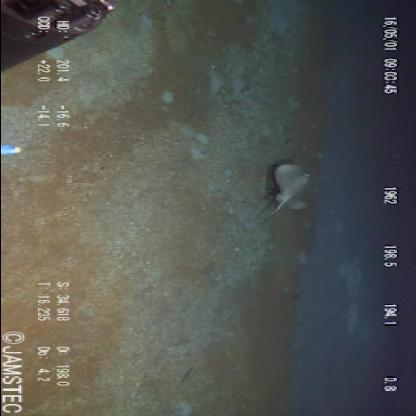Bio: (258, 162, 314, 218)
